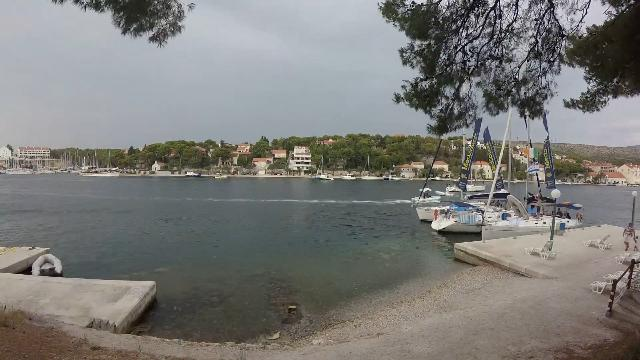speedboat: (208, 168, 236, 180)
